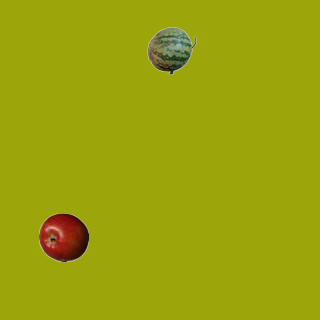Apple Braeburn: (38, 212, 88, 262)
Watermelon: (146, 25, 196, 75)
